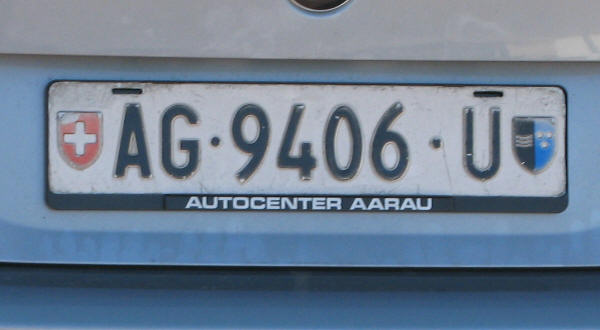license_plate: (44, 78, 569, 198)
